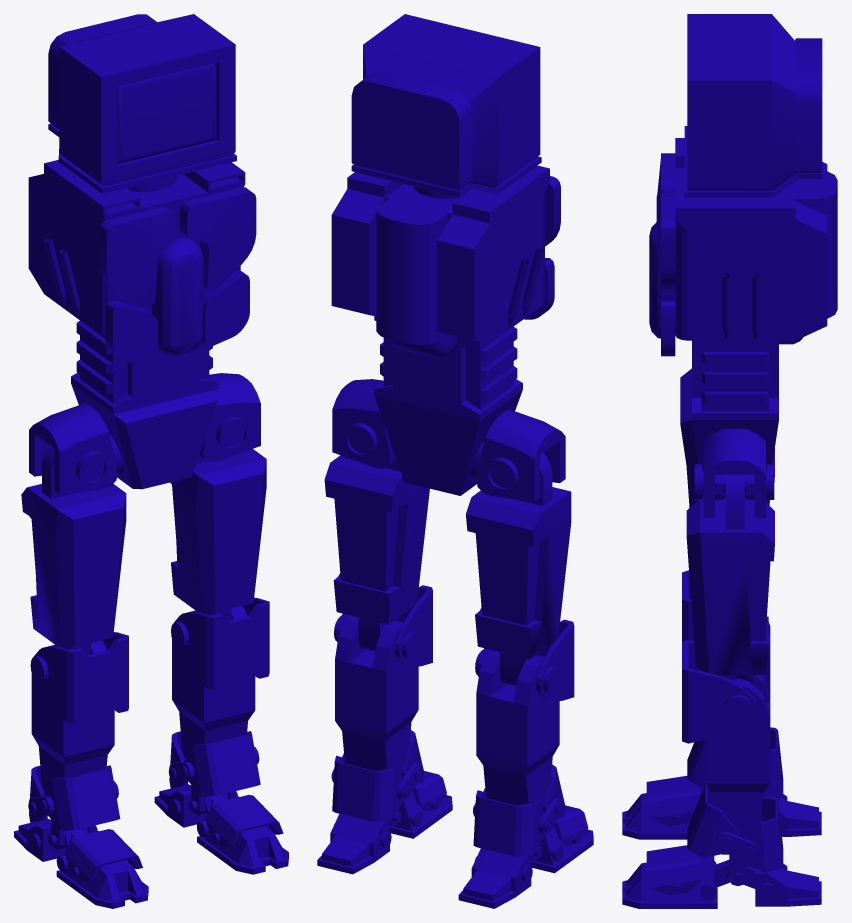
File: HelloWorld_Brand_Pedro.fbx
3 views of the same model, side by side, from view 1: azimuth 30°, elevation 25°; view 2: azimuth 150°, elevation 25°; view 3: azimuth 270°, elevation 25° (orthographic).
Parts seen in each view (by area): view 1: Robo_Joined; view 2: Robo_Joined; view 3: Robo_Joined.
Part boxes in pixels (bbox=[...]): Robo_Joined: bbox=[14, 14, 288, 908]; Robo_Joined: bbox=[317, 14, 593, 908]; Robo_Joined: bbox=[622, 14, 837, 908].
Size of the model in its own units: 234 by 841 by 202.
